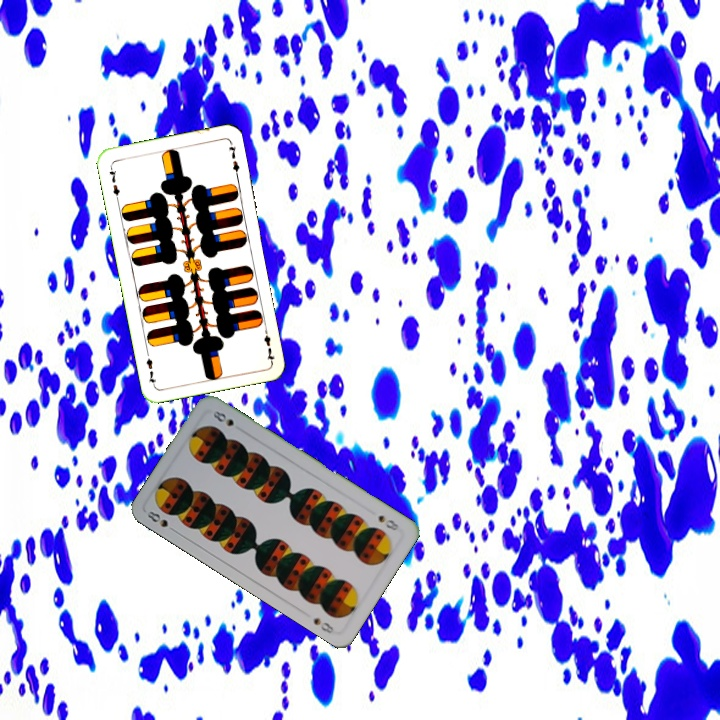E7: (105, 162, 122, 202), (260, 324, 277, 364)
S8: (143, 507, 179, 535), (374, 511, 402, 533)
